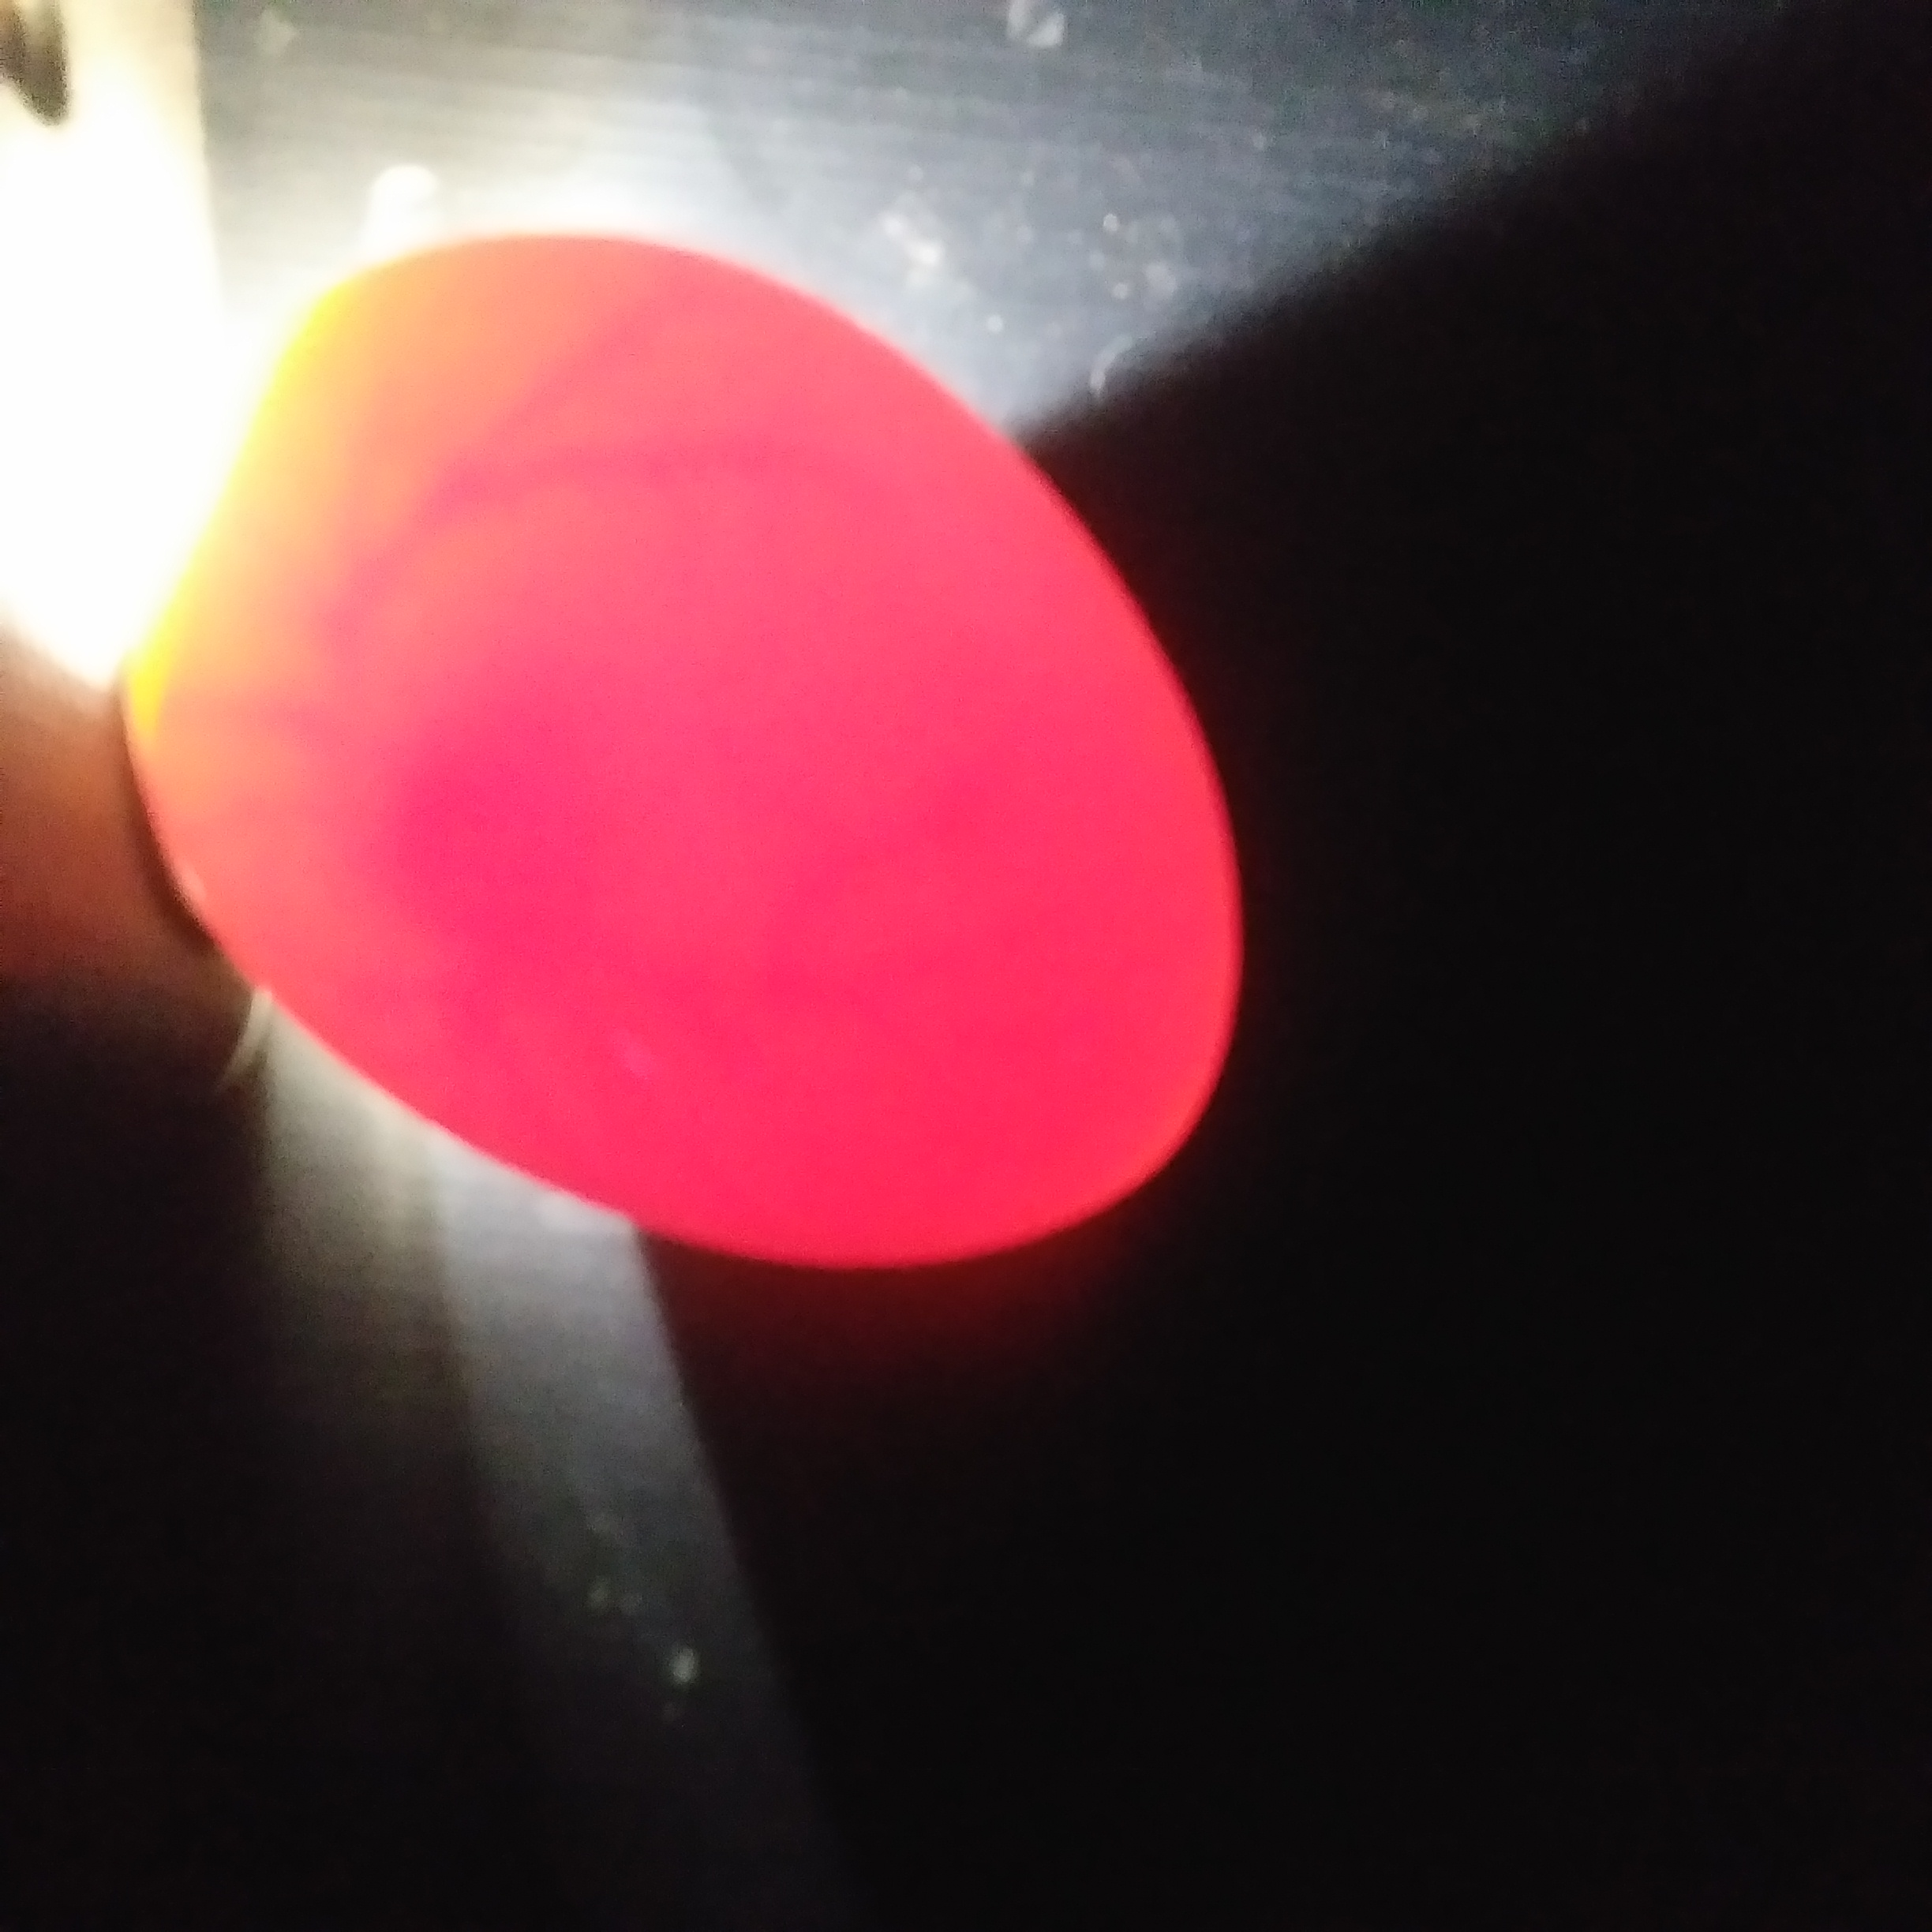bloodcell: (276, 425, 778, 632)
